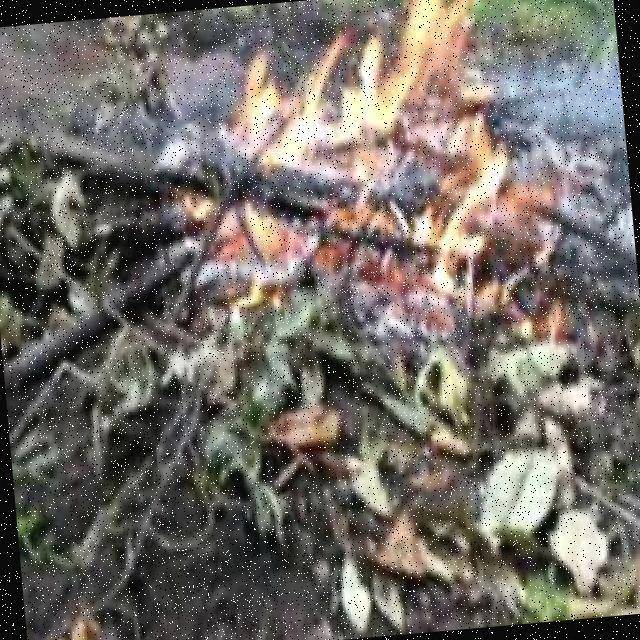Fire: (178, 0, 564, 354)
